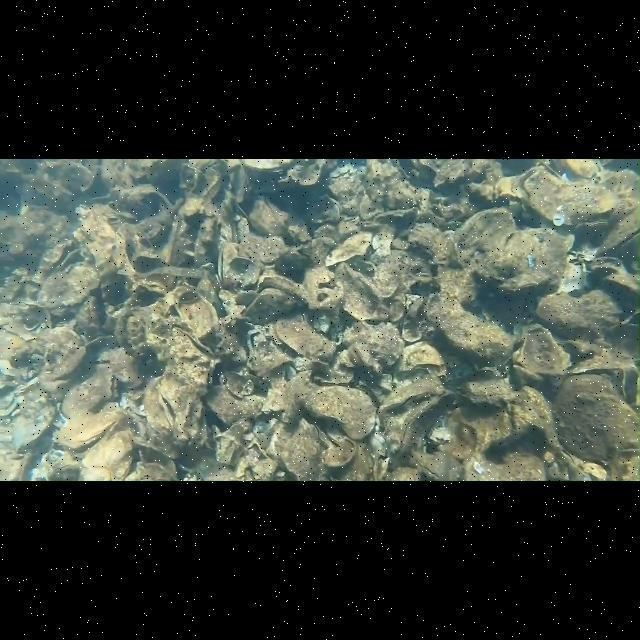Oyster-Closed: (472, 228, 566, 292), (426, 294, 514, 359), (524, 169, 619, 225), (74, 205, 135, 276), (384, 394, 451, 458), (215, 419, 279, 481), (305, 385, 376, 440), (246, 270, 304, 325), (381, 382, 443, 432), (512, 324, 570, 376), (274, 316, 336, 361), (33, 266, 101, 306), (32, 160, 95, 200), (172, 286, 219, 339), (58, 411, 119, 450), (98, 343, 139, 391), (118, 185, 170, 218), (31, 450, 82, 481), (414, 452, 462, 483), (218, 239, 237, 283)
Oyster-Open: (146, 377, 203, 439)
